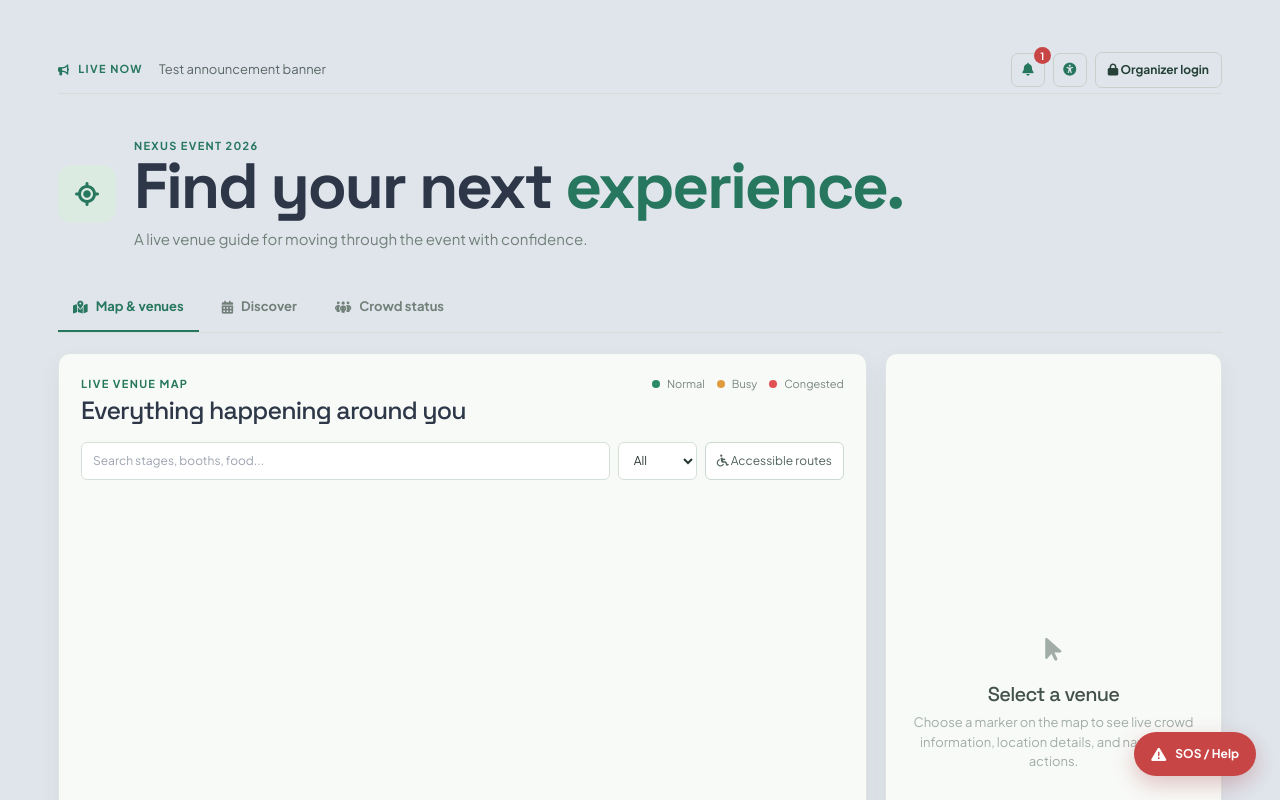
Test case: App › switches to the Discover tab and shows scheduled sessions
expect the text "Test announcement banner" is shown: met, box [159,61,326,77]
Click the button "Discover" at (259, 308), box [207,284,312,332]
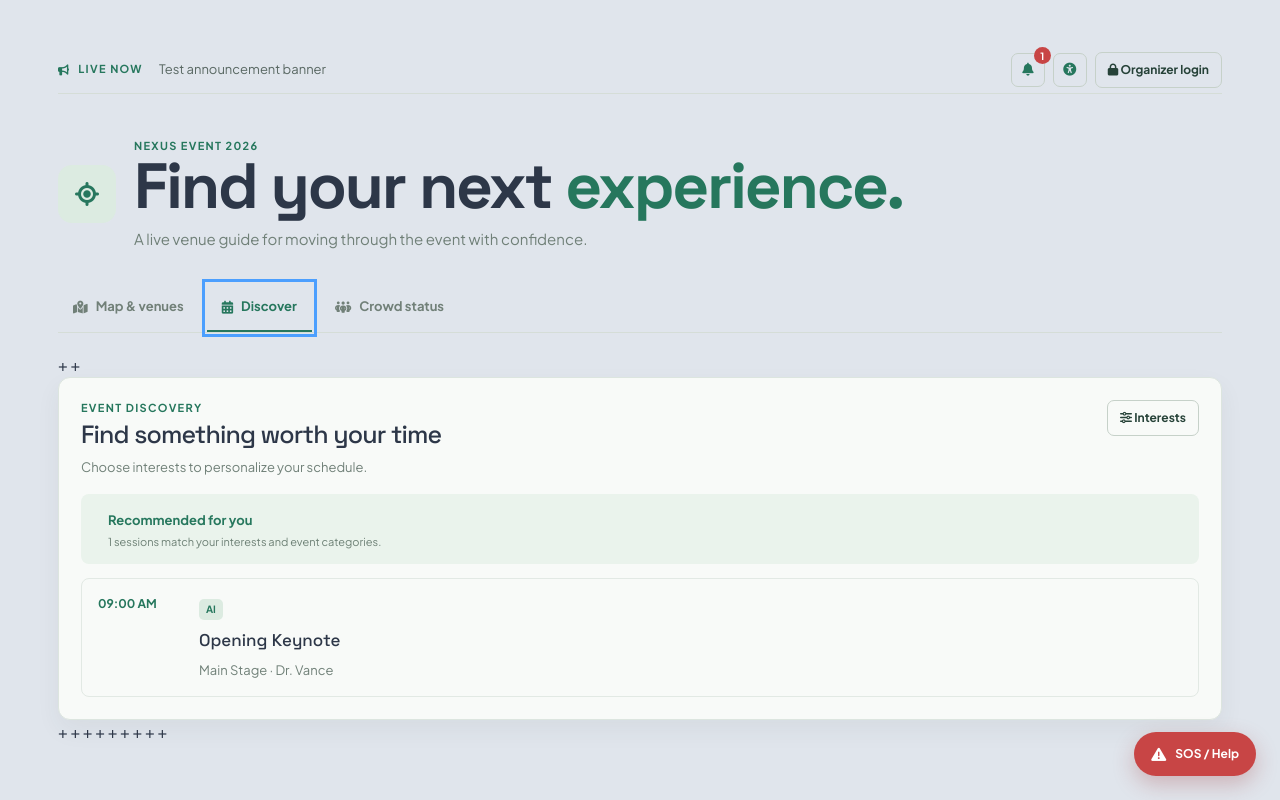
expect the heading "Opening Keynote" is shown: met, box [199,628,340,653]
